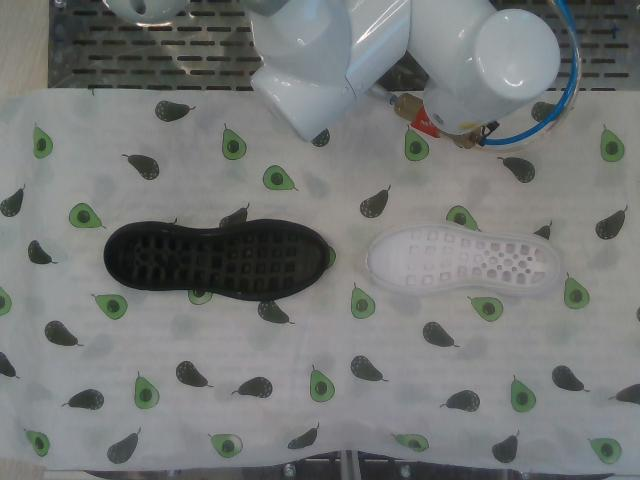shoes: (105, 228, 328, 294), (367, 225, 559, 290)
